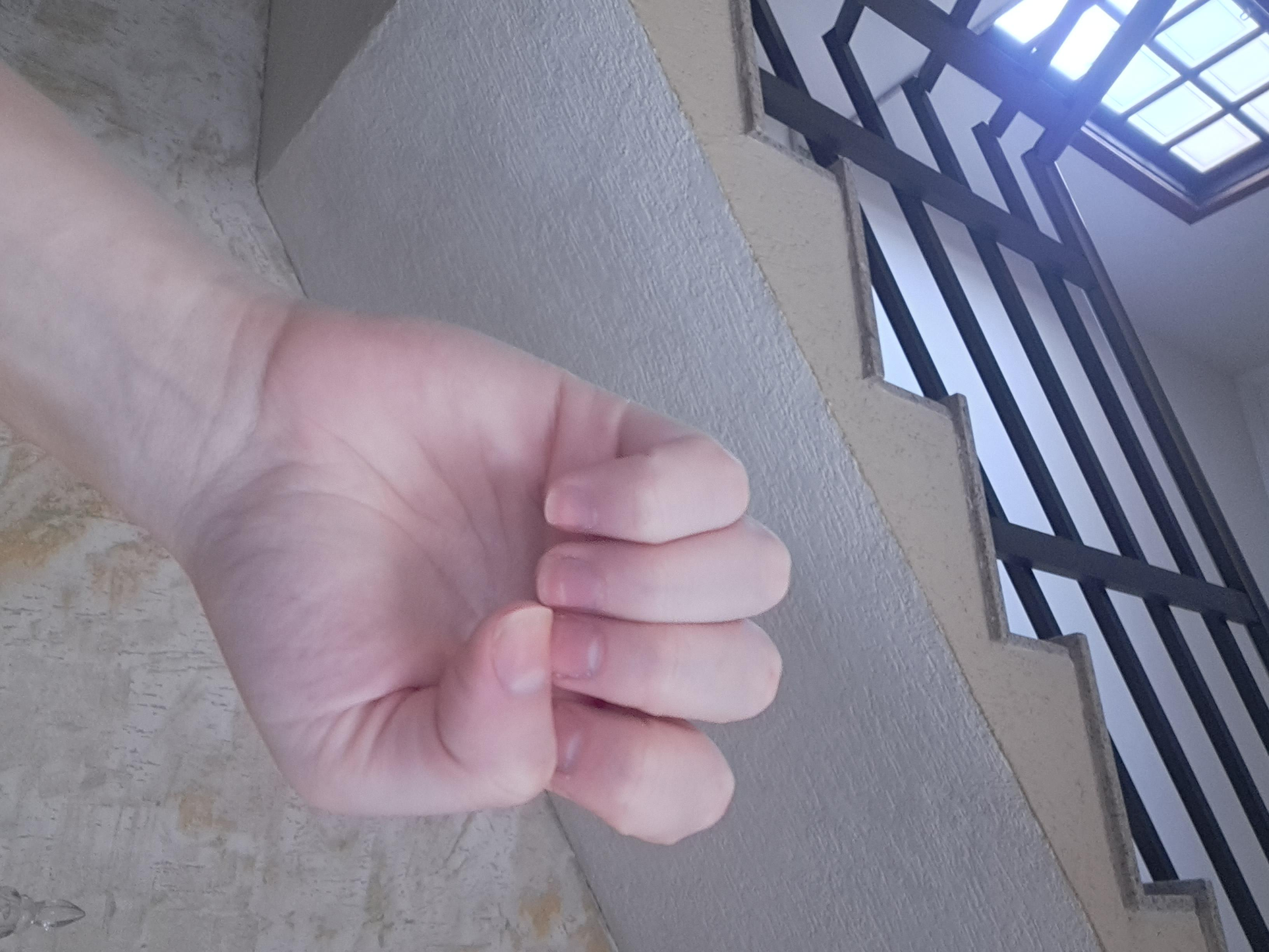E: (394, 338, 1151, 805)
